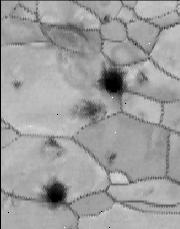good_void: (48, 20, 97, 57), (76, 98, 107, 126), (99, 68, 123, 98), (44, 182, 66, 207), (102, 146, 123, 166), (0, 187, 19, 206), (44, 140, 61, 149), (137, 70, 147, 85), (12, 81, 22, 90), (103, 15, 111, 25), (54, 150, 61, 158)
